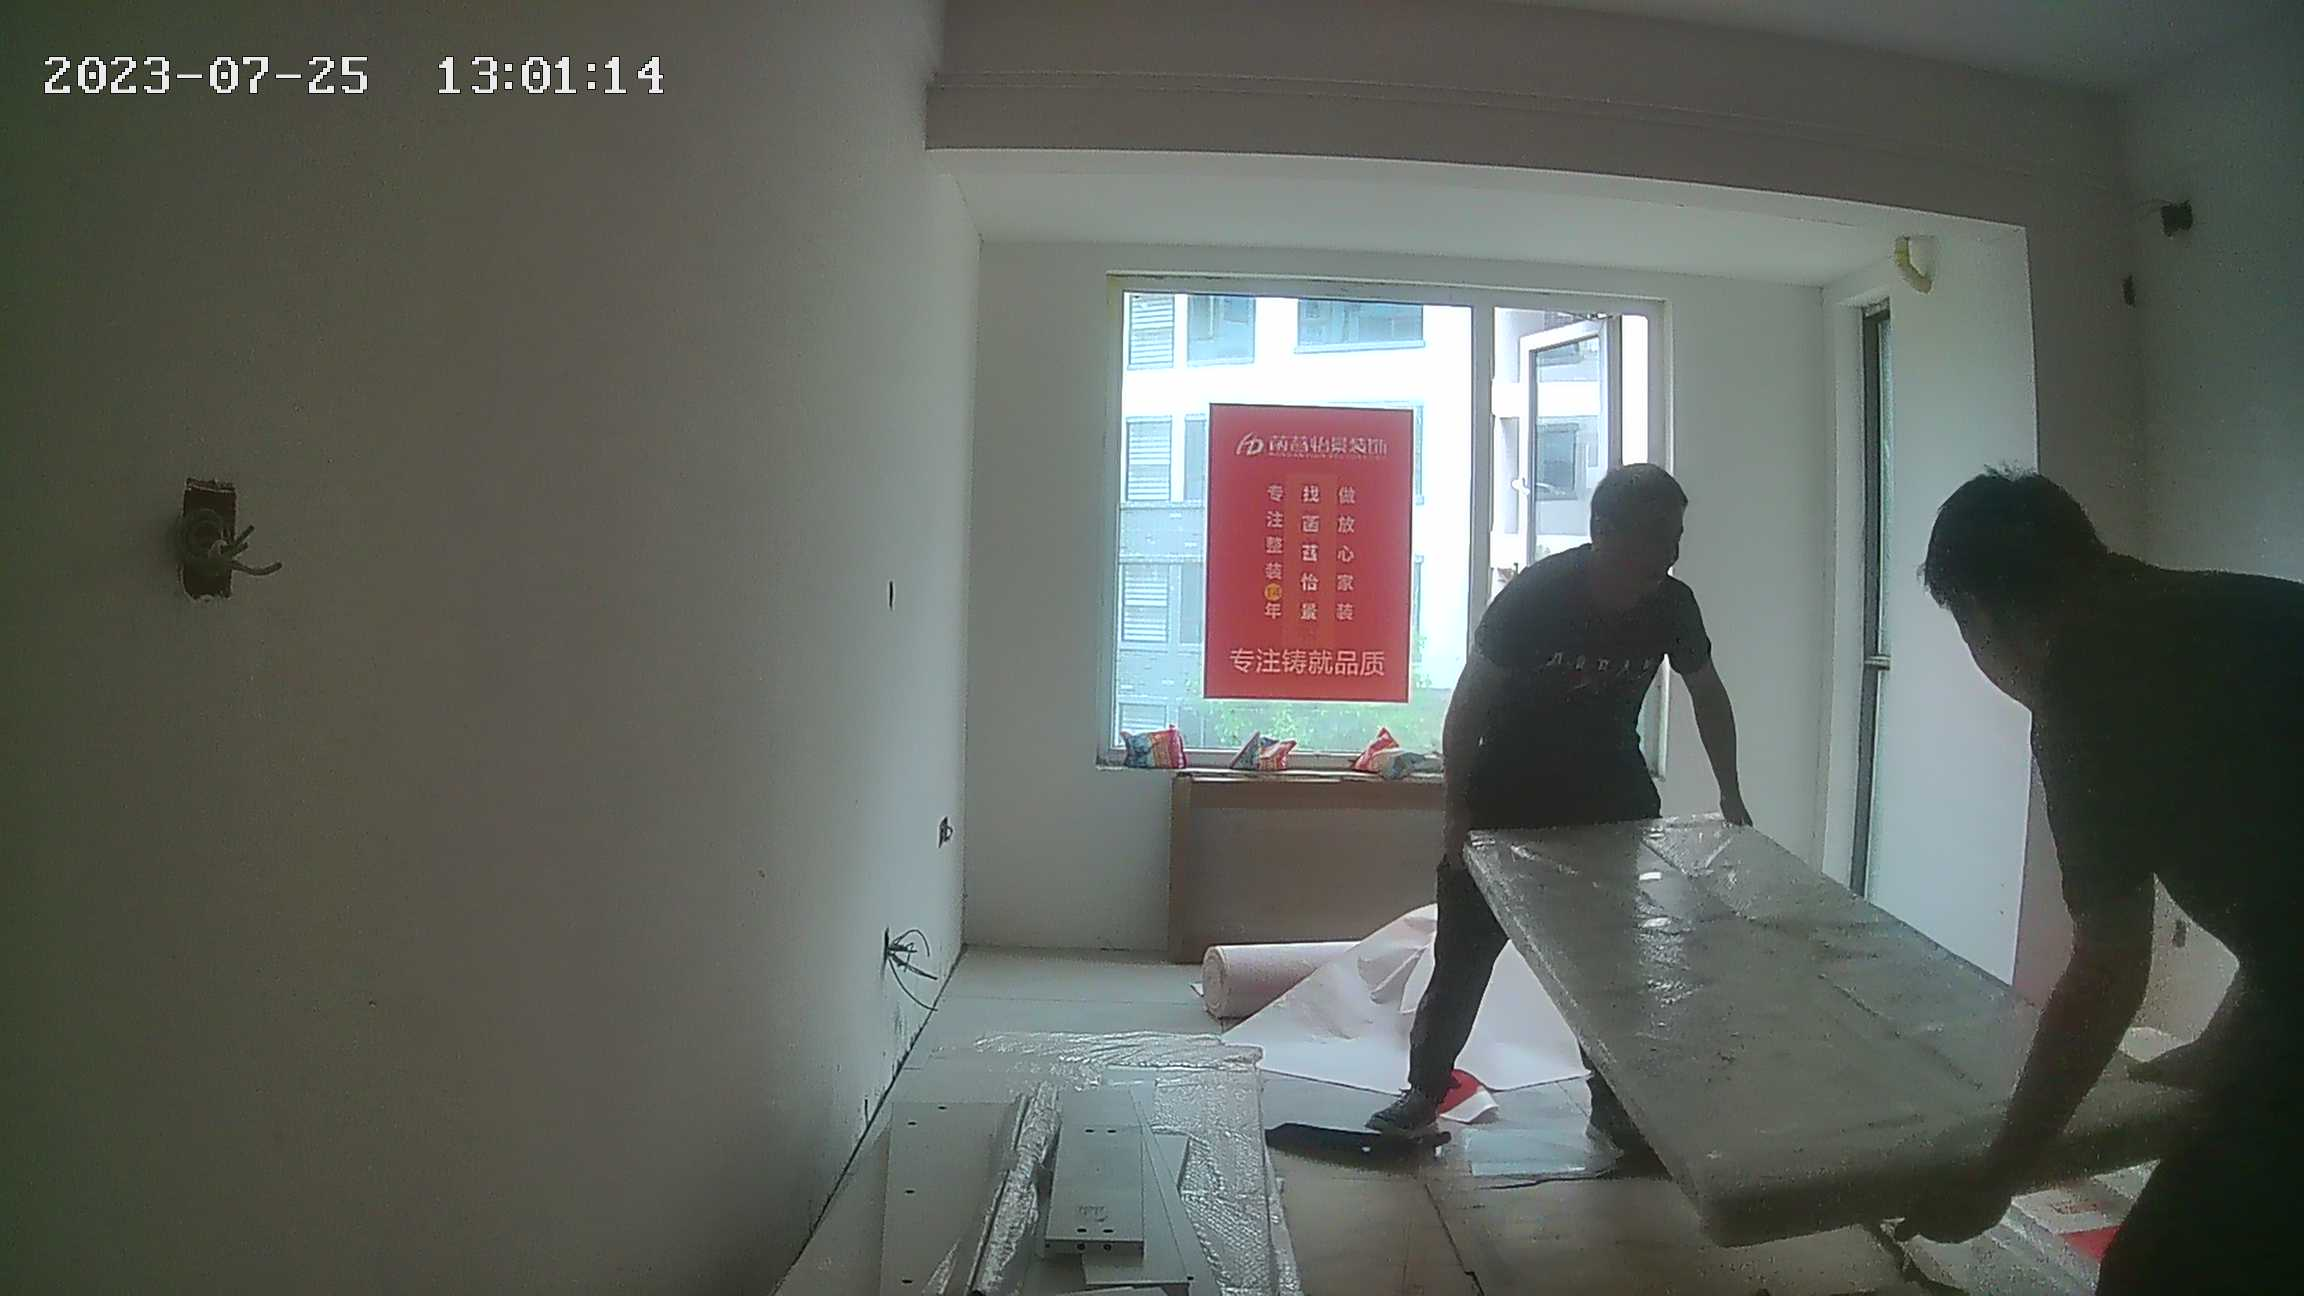people: (1918, 451, 2304, 1269), (1379, 461, 1688, 1171)
window: (1125, 291, 1656, 776)
